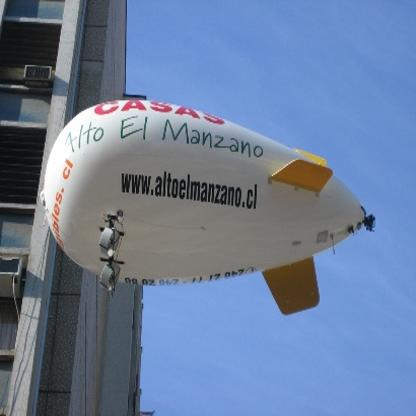Airship: (46, 99, 378, 320)
